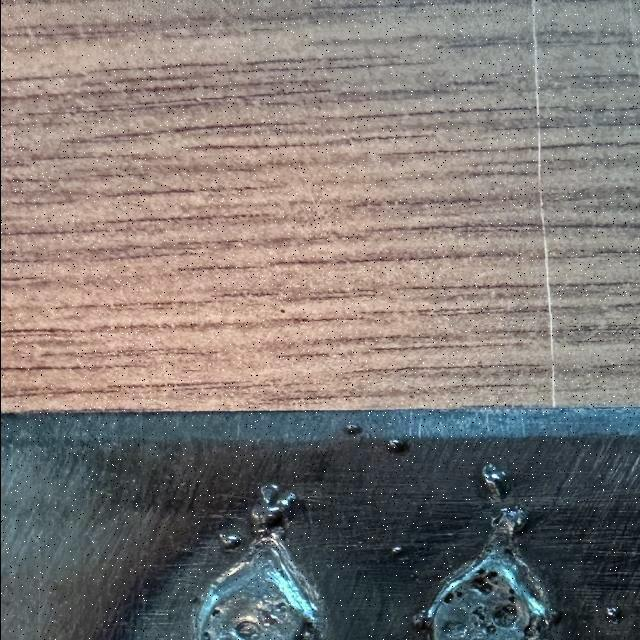Excess Reinforcement: (244, 534, 300, 585), (468, 532, 527, 576), (249, 484, 295, 535), (523, 602, 562, 640), (410, 609, 433, 640)
Porosity: (433, 569, 530, 640), (492, 595, 518, 628), (472, 571, 498, 594), (234, 620, 262, 640), (472, 604, 492, 621), (442, 591, 462, 604), (209, 609, 220, 619), (198, 631, 210, 640), (485, 625, 495, 634)
Spatters: (480, 464, 512, 502), (491, 506, 527, 536), (219, 532, 240, 550), (603, 606, 622, 624), (386, 440, 408, 455), (388, 545, 405, 559), (344, 424, 362, 435), (188, 596, 198, 605)
